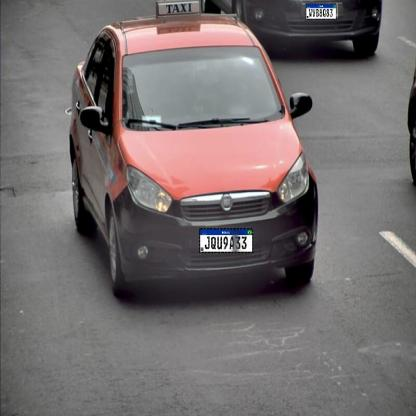PlacaM: (199, 228, 253, 253), (306, 3, 336, 20)
